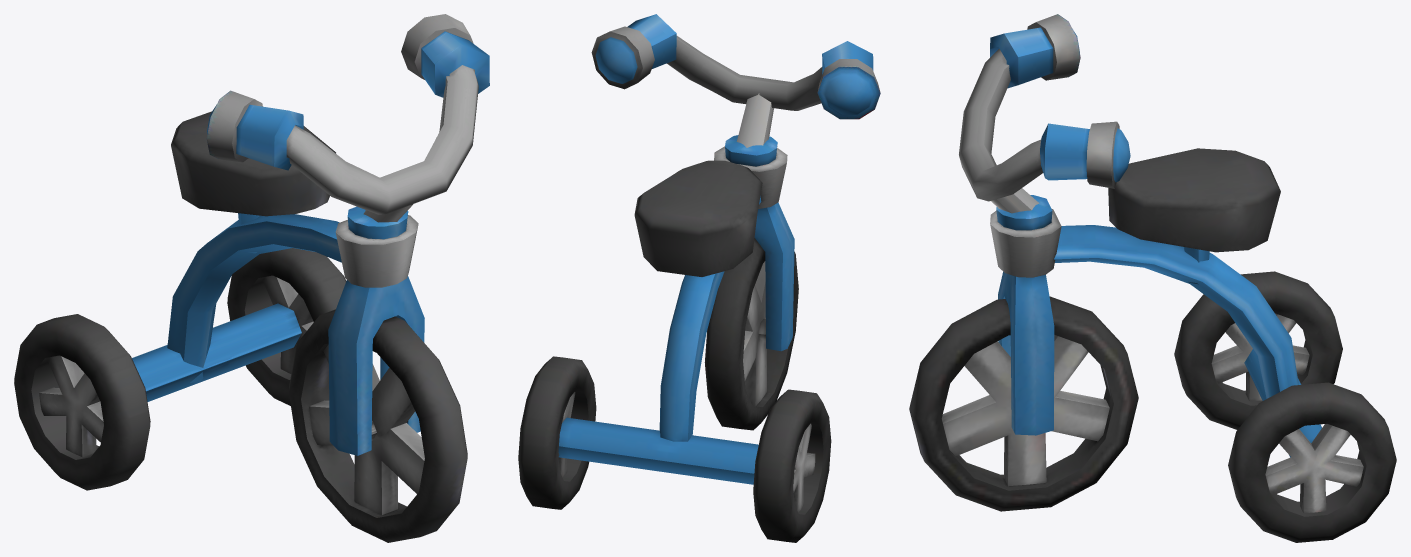
File: 0-bike_blue.fbx
3 views of the same model, side by side, from view 1: azimuth 30°, elevation 25°; view 2: azimuth 150°, elevation 25°; view 3: azimuth 270°, elevation 25° (orthographic). The views are drawn at different scales.
Parts seen in each view (by area): view 1: 0-bike_blue; view 2: 0-bike_blue; view 3: 0-bike_blue.
Boxes of the visible parts, left/top/right/bottom form: 0-bike_blue: left=14, top=14, right=489, bottom=542; 0-bike_blue: left=518, top=14, right=880, bottom=542; 0-bike_blue: left=909, top=14, right=1396, bottom=542.
Size of the model in its own units: 74.02 by 94.31 by 97.51.
